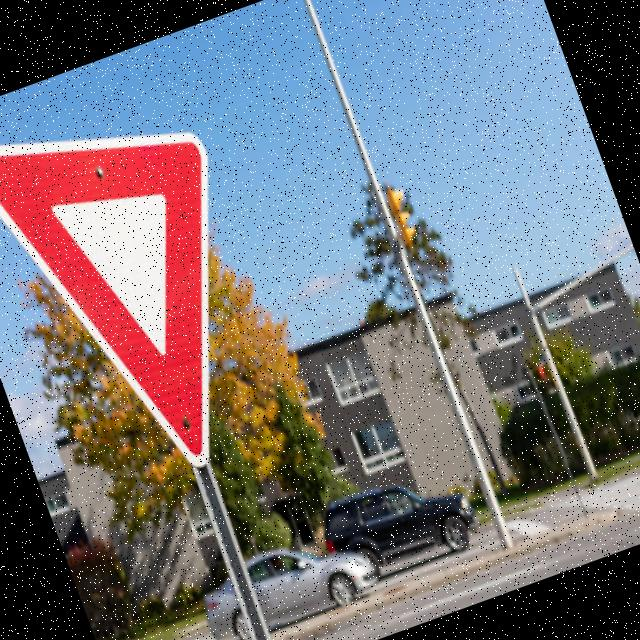give_way: (0, 61, 321, 505)
